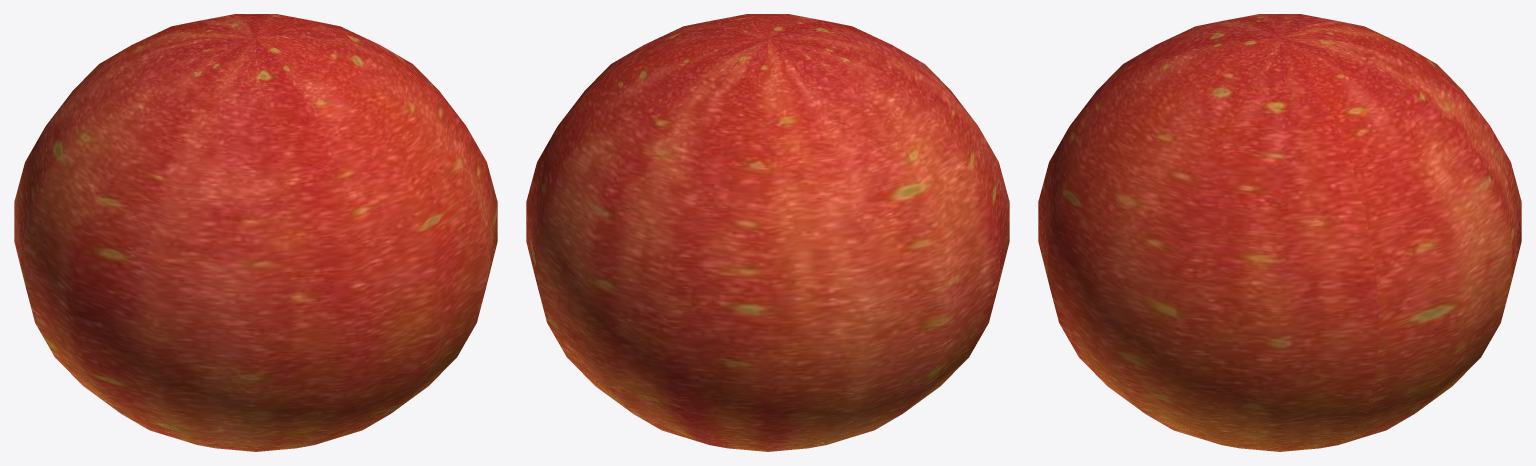
Rendered from elma.fbx.
The picture shows the model from 3 angles, left to right: view 1: azimuth 30°, elevation 25°; view 2: azimuth 150°, elevation 25°; view 3: azimuth 270°, elevation 25°; orthographic projection.
Parts seen in each view (by area): view 1: Head; view 2: Head; view 3: Head.
Boxes of the visible parts, x1=… form: Head: x1=14, y1=14, x2=497, y2=451; Head: x1=526, y1=14, x2=1009, y2=451; Head: x1=1038, y1=14, x2=1521, y2=451.
Size of the model in its own units: 9.84 by 8.78 by 9.89.
